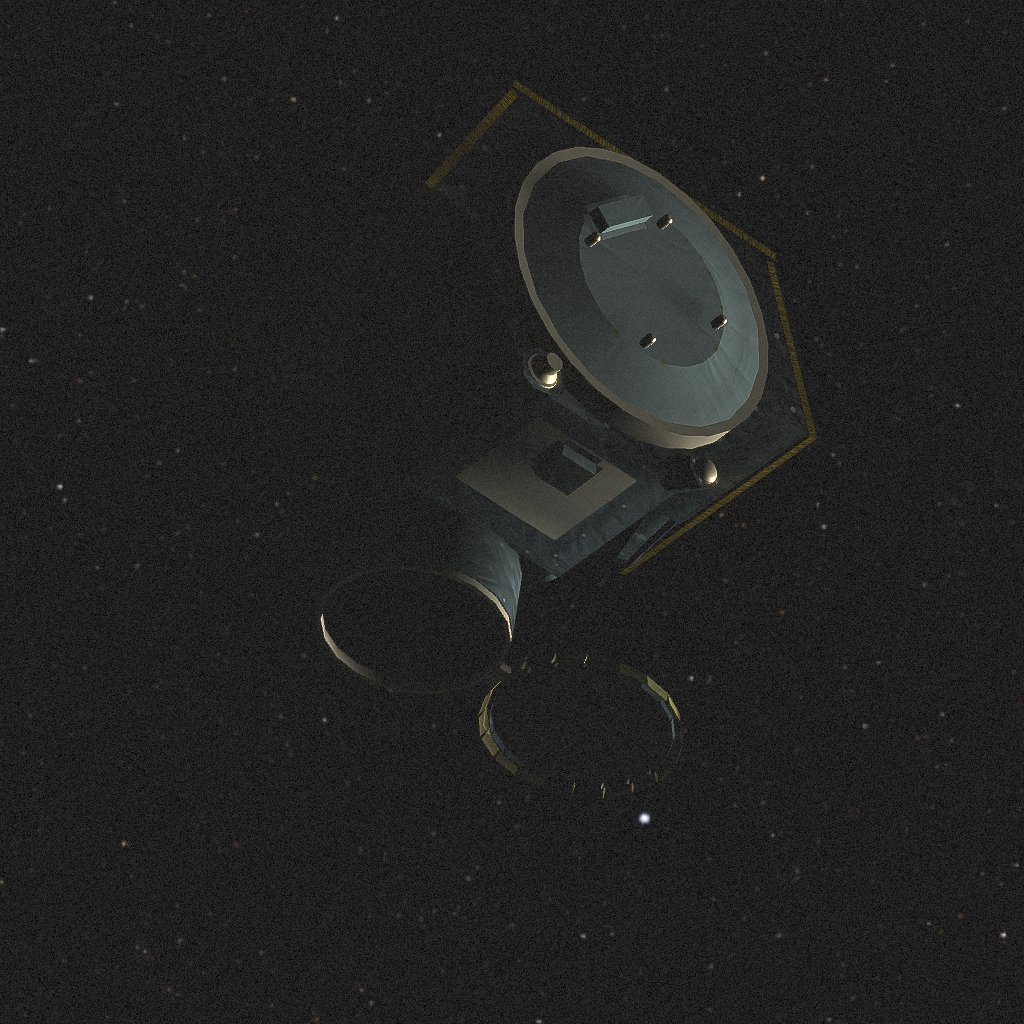cheops: (204, 79, 817, 799)
